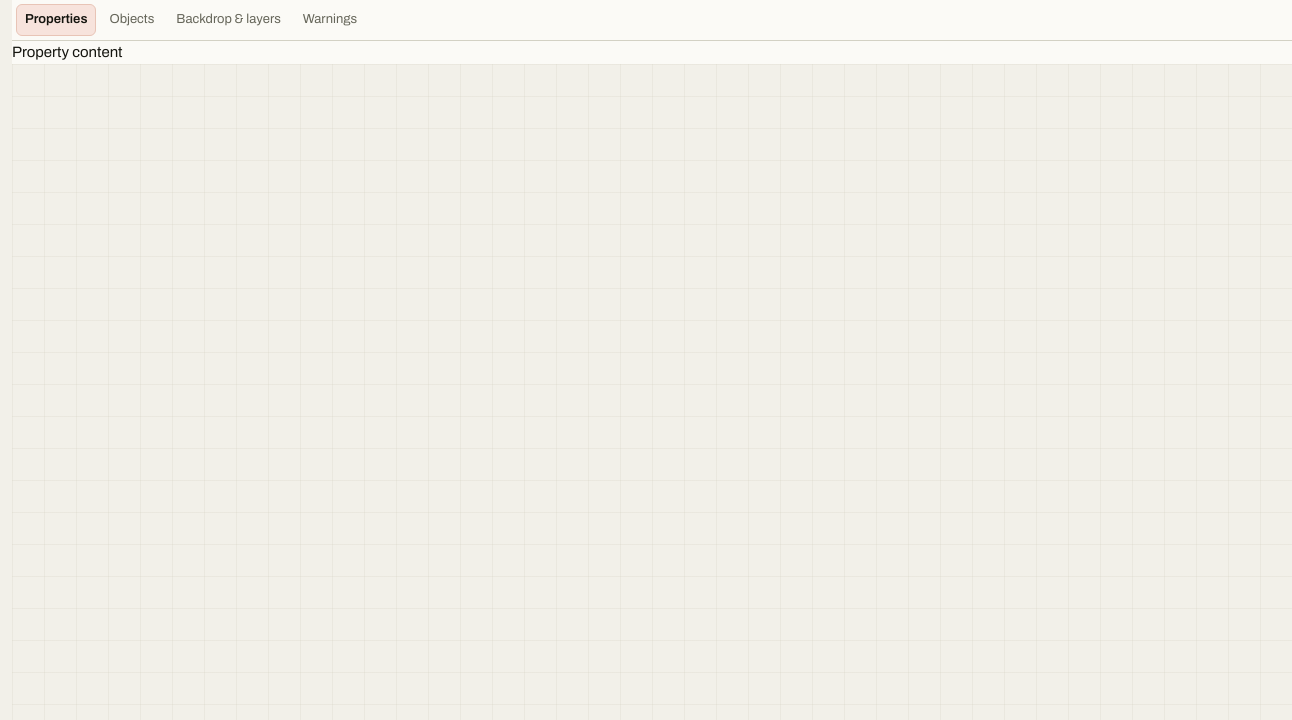
Test case: MapInspectorDrawer › presents four explicit tabs without a collapse affordance
Click the tab "Backdrop & layers": x=229, y=20 [167,4,290,36]
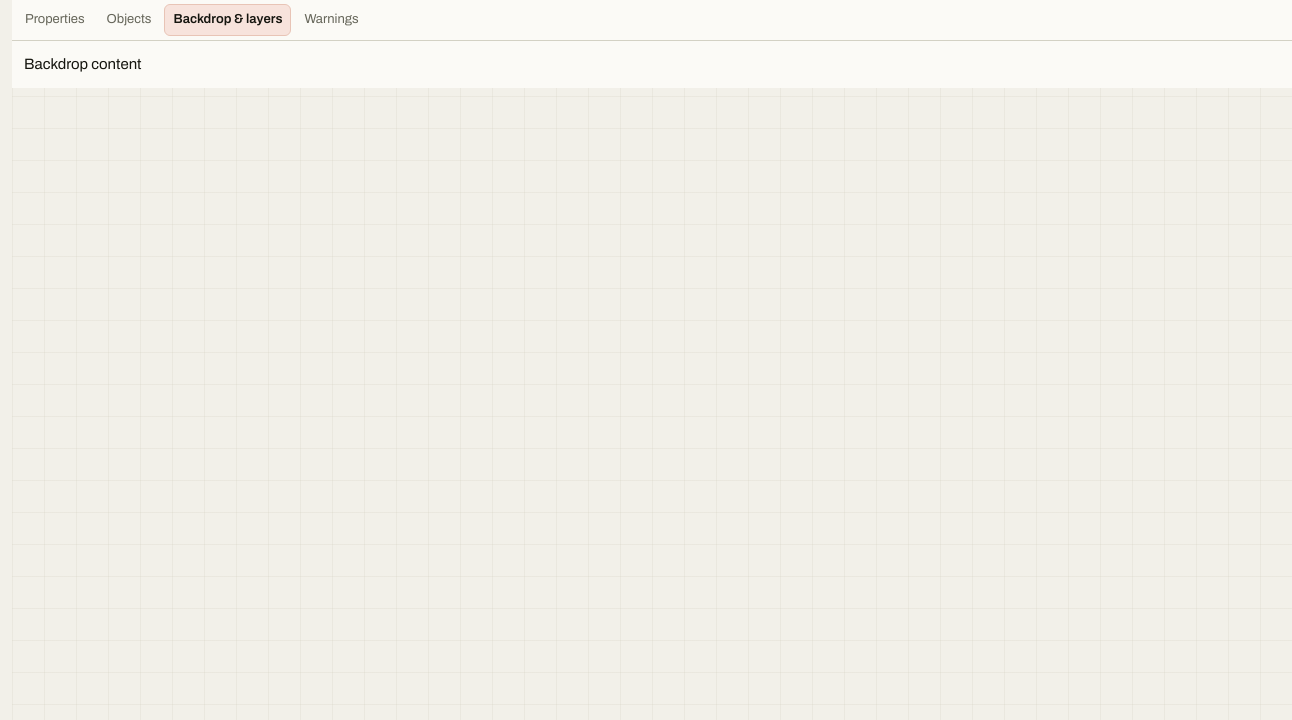
expect the text "Backdrop content" is shown: met, box [24,56,142,72]
Press ArrowRight in the tab "Backdrop & layers", box [164,4,292,36]
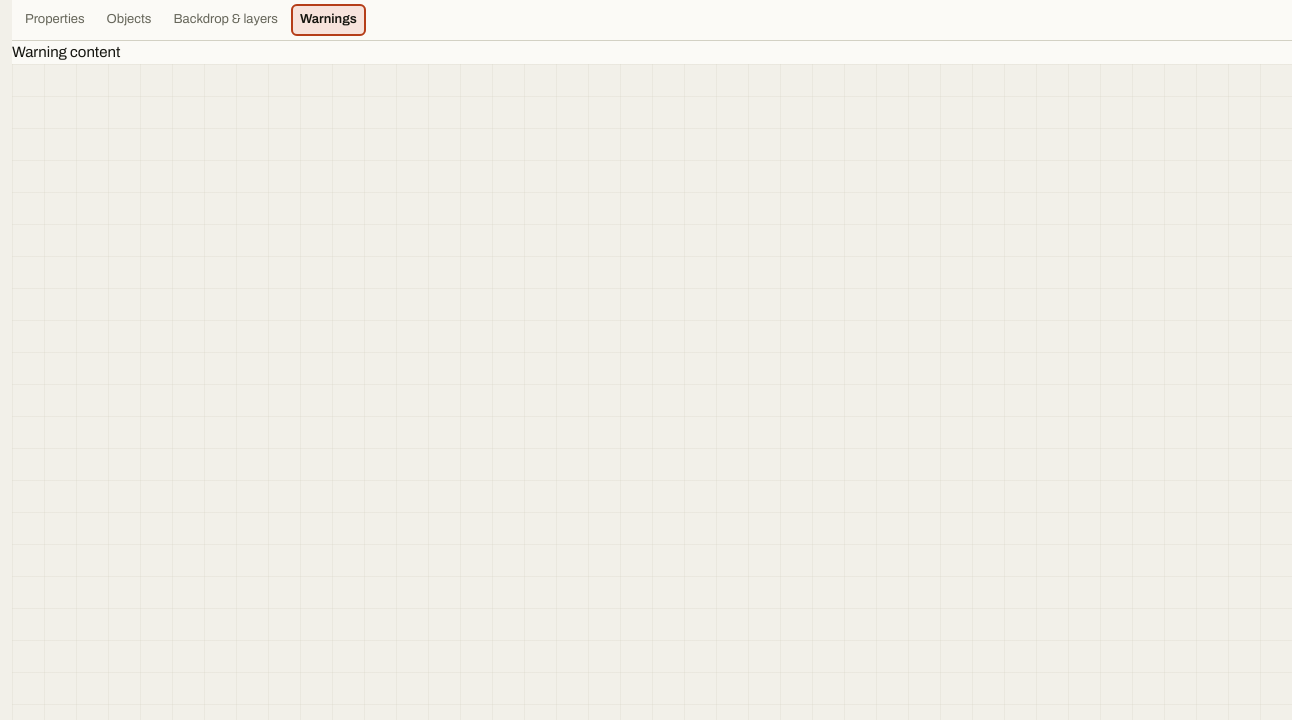
expect the text "Warning content" is shown: met, box [12,44,120,60]
